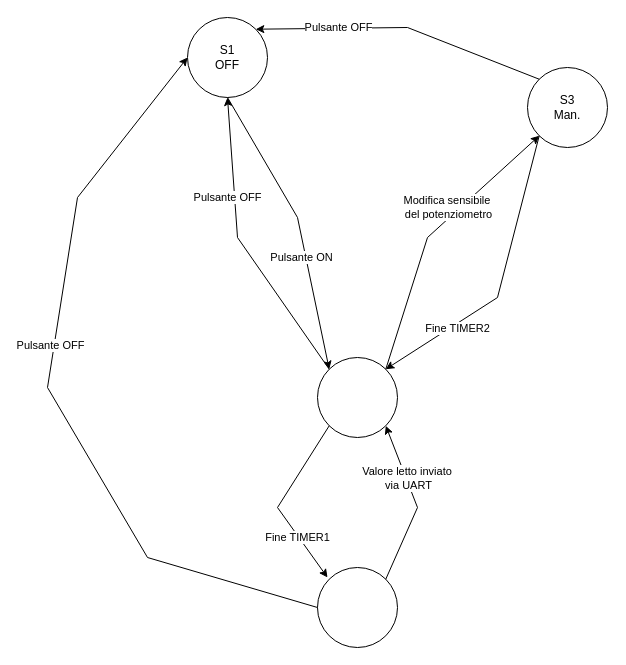
This 626x665 diagram has some shape labels left out. The shapes that lost their labels are listed below. From the top down, each one's centre as x and y in pixels, then its label:
At pixel 357 397: "S2 Sensore".
At pixel 357 607: "S2.1 Lettura".
